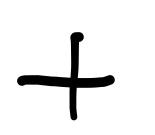plus: (17, 32, 115, 120)
